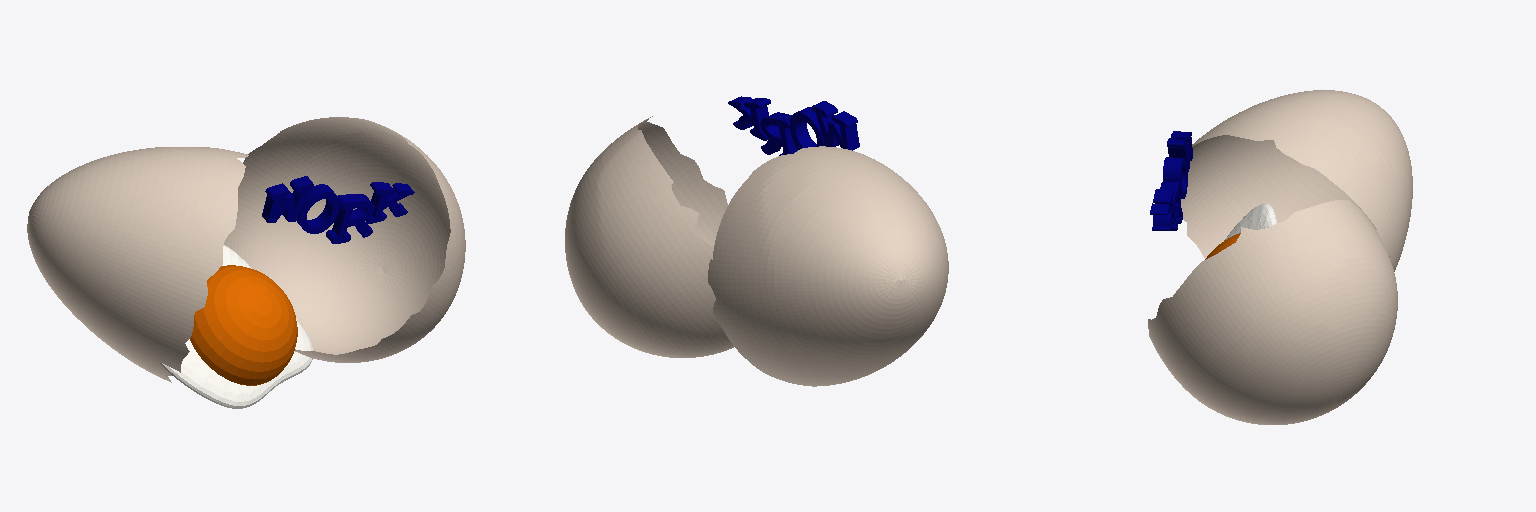
3 renders of one model, left to right at view 1: azimuth 30°, elevation 25°; view 2: azimuth 150°, elevation 25°; view 3: azimuth 270°, elevation 25°, orthographic.
Visible parts, largest first — view 1: 球.001, 球.005, 黄身, テキスト, 白身; view 2: 球.005, 球.001, テキスト; view 3: 球.001, 球.005, テキスト, 白身.
Boxes of the visible parts, x1,y1,x2,y2 form: 球.001: [224, 117, 465, 362]; 球.005: [27, 147, 248, 382]; 黄身: [190, 265, 297, 385]; テキスト: [262, 176, 414, 243]; 白身: [160, 245, 312, 408]; 球.005: [708, 146, 948, 386]; 球.001: [565, 116, 733, 357]; テキスト: [728, 96, 859, 155]; 球.001: [1148, 200, 1397, 424]; 球.005: [1181, 90, 1412, 271]; テキスト: [1150, 131, 1192, 230]; 白身: [1224, 204, 1277, 240].
Size of the model in its own units: 11.75 by 6.78 by 7.13.